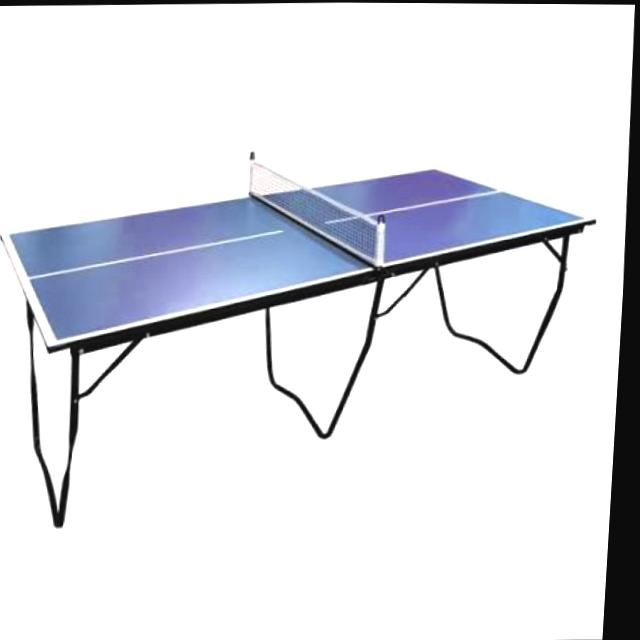TT Net: (244, 149, 389, 273)
TT Table: (1, 166, 595, 346)
